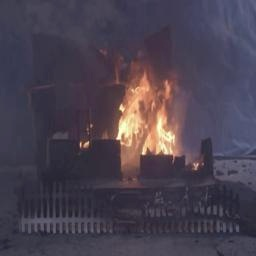fire: (91, 57, 191, 164)
